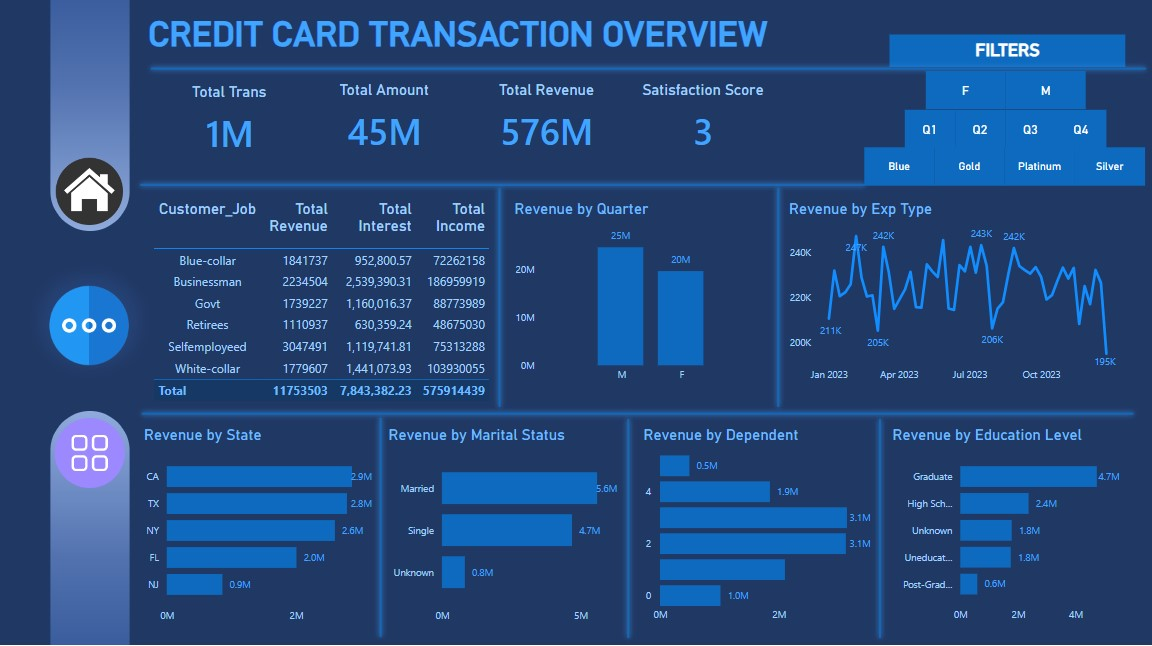

This screenshot's page, from the dashboard's own definition file:
{"tool":"powerbi","page":{"name":"OVERVIEW","canvas":[1280,720],"ordinal":2},"visuals":[{"type":"textbox","box":[160.3,9.8,733,62.2],"z":0},{"type":"card","title":"Total Trans","fields":{"Values":["Sum(credit_card.Total_Trans_Vol)"]},"box":[165.9,92.6,176.1,91.3],"z":1000,"group":"g1"},{"type":"advancedSlicerVisual","fields":{"Values":["credit_card.Qtr"]},"box":[1001.3,115.5,234.1,54],"z":1000,"group":"g2"},{"type":"card","title":"Total Amount","fields":{"Values":["Sum(credit_card.Total_Trans_Amt)"]},"box":[339.6,90.3,173.7,91.3],"z":2000,"group":"g1"},{"type":"tableEx","fields":{"Values":["customer.Customer_Job","Sum(credit_card.Total_Revolving_Bal)","Sum(credit_card.Interest_Earned)","Sum(customer.Income)"]},"box":[165.7,212.6,390.7,245.4],"z":2000},{"type":"textbox","box":[988.2,37.6,261.8,36],"z":3000},{"type":"card","title":"Total Revenue","fields":{"Values":["Sum(customer.Income)"]},"box":[515.7,90.3,181,91.3],"z":4000,"group":"g1"},{"type":"barChart","title":"Revenue by State","fields":{"Category":["customer.state_cd"],"Y":["Sum(credit_card.Total_Revolving_Bal)"]},"box":[154.2,473,270.9,227.1],"z":4000},{"type":"advancedSlicerVisual","fields":{"Values":["customer.Gender"]},"box":[1023.3,73,188.3,54],"z":5000,"group":"g2"},{"type":"card","title":"Satisfaction Score","fields":{"Values":["Avg(customer.Cust_Satisfaction_Score)"]},"box":[696,90.3,168.8,91.3],"z":5000,"group":"g1"},{"type":"advancedSlicerVisual","fields":{"Values":["credit_card.Card_Category"]},"box":[955.5,158.1,324,54],"z":7000,"group":"g2"},{"type":"clusteredBarChart","title":"Revenue by Dependent","fields":{"Category":["customer.Dependent_Count"],"Y":["Sum(credit_card.Total_Revolving_Bal)"]},"box":[709.2,473,270,226.7],"z":7000},{"type":"clusteredBarChart","title":"Revenue by Education Level","fields":{"Category":["customer.Education_Level"],"Y":["Sum(credit_card.Total_Revolving_Bal)"]},"box":[986.7,473,270,226.7],"z":8000},{"type":"lineChart","title":"Revenue by Exp Type","fields":{"Category":["credit_card.Week_Start_Date"],"Y":["Sum(credit_card.Total_Revolving_Bal)"]},"box":[872.1,221.7,384.3,211.9],"z":9000},{"type":"lineStackedColumnComboChart","title":"Revenue by Quarter","fields":{"Y":["Sum(credit_card.Total_Trans_Amt)"],"Category":["customer.Gender"]},"box":[566.6,221.7,282.5,211.9],"z":10000},{"type":"group","id":"g1","title":"Group 1","box":[165.9,90.3,699.7,93.6],"z":11000},{"type":"shape","box":[162,50.7,1117.5,52.4],"z":12000},{"type":"shape","box":[151.1,433.6,1113.6,52.6],"z":13000},{"type":"shape","box":[150.5,178.3,817,54],"z":14000},{"type":"shape","box":[518.9,203.2,73.5,254.8],"z":15000},{"type":"shape","box":[793.3,203.7,142.9,254.6],"z":16000},{"type":"shape","box":[351.8,458.1,142.3,255.2],"z":17000},{"type":"shape","box":[627.4,459.9,142.9,254.6],"z":18000},{"type":"shape","box":[906.5,459.5,142.2,254.8],"z":19000},{"type":"barChart","title":"Revenue by Marital Status","fields":{"Y":["Sum(credit_card.Total_Revolving_Bal)"],"Category":["customer.Marital_Status"]},"box":[427,472.8,271.6,227.4],"z":20000},{"type":"image","box":[57.3,170.2,85.1,85.1],"z":21000},{"type":"image","box":[50.7,454.8,99.8,96.5],"z":22000},{"type":"image","box":[45.8,307.6,108,106.3],"z":23000},{"type":"group","id":"g2","title":"Group 2","box":[955.5,73,324,139.1],"z":23001}]}

Visuals, with their boxes in screenshot pixels (x1, y1, x2, y2), scaled from the page's 1280x720 canvas onto the 1152x646 screenshot:
textbox: left=144, top=9, right=804, bottom=65
"Total Trans" card: left=149, top=83, right=308, bottom=165
advancedSlicerVisual - credit_card.Qtr: left=901, top=104, right=1112, bottom=152
"Total Amount" card: left=306, top=81, right=462, bottom=163
tableEx - customer.Customer_Job x Sum(credit_card.Total_Revolving_Bal): left=149, top=191, right=501, bottom=411
textbox: left=889, top=34, right=1125, bottom=66
"Total Revenue" card: left=464, top=81, right=627, bottom=163
"Revenue by State" barChart: left=139, top=424, right=383, bottom=628
advancedSlicerVisual - customer.Gender: left=921, top=65, right=1090, bottom=114
"Satisfaction Score" card: left=626, top=81, right=778, bottom=163
advancedSlicerVisual - credit_card.Card_Category: left=860, top=142, right=1151, bottom=190
"Revenue by Dependent" clusteredBarChart: left=638, top=424, right=881, bottom=628
"Revenue by Education Level" clusteredBarChart: left=888, top=424, right=1131, bottom=628
"Revenue by Exp Type" lineChart: left=785, top=199, right=1131, bottom=389
"Revenue by Quarter" lineStackedColumnComboChart: left=510, top=199, right=764, bottom=389
"Group 1" group: left=149, top=81, right=779, bottom=165
shape: left=146, top=45, right=1151, bottom=93
shape: left=136, top=389, right=1138, bottom=436
shape: left=135, top=160, right=871, bottom=208
shape: left=467, top=182, right=533, bottom=411
shape: left=714, top=183, right=843, bottom=411
shape: left=317, top=411, right=445, bottom=640
shape: left=565, top=413, right=693, bottom=641
shape: left=816, top=412, right=944, bottom=641
"Revenue by Marital Status" barChart: left=384, top=424, right=629, bottom=628
image: left=52, top=153, right=128, bottom=229
image: left=46, top=408, right=135, bottom=495
image: left=41, top=276, right=138, bottom=371
"Group 2" group: left=860, top=65, right=1151, bottom=190
